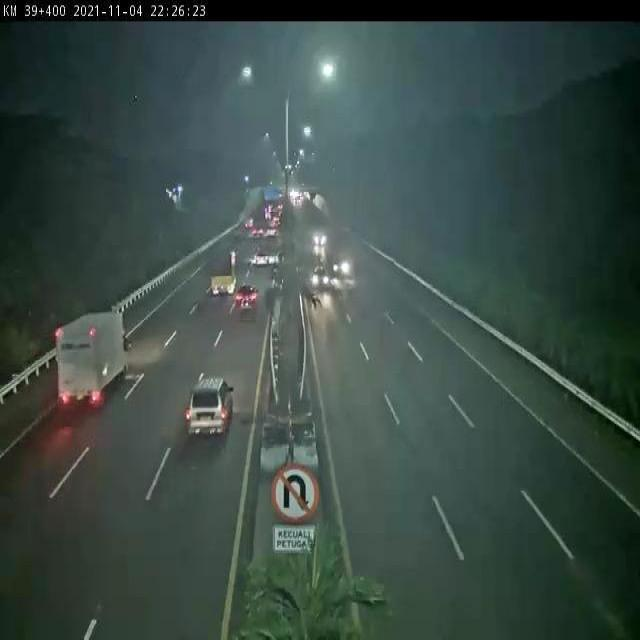car: (187, 379, 234, 435), (236, 284, 257, 308), (331, 256, 350, 276), (312, 267, 328, 287), (255, 249, 269, 264), (313, 231, 327, 244), (253, 226, 264, 238), (267, 227, 276, 236)
truck: (56, 311, 130, 405), (210, 252, 237, 291)
